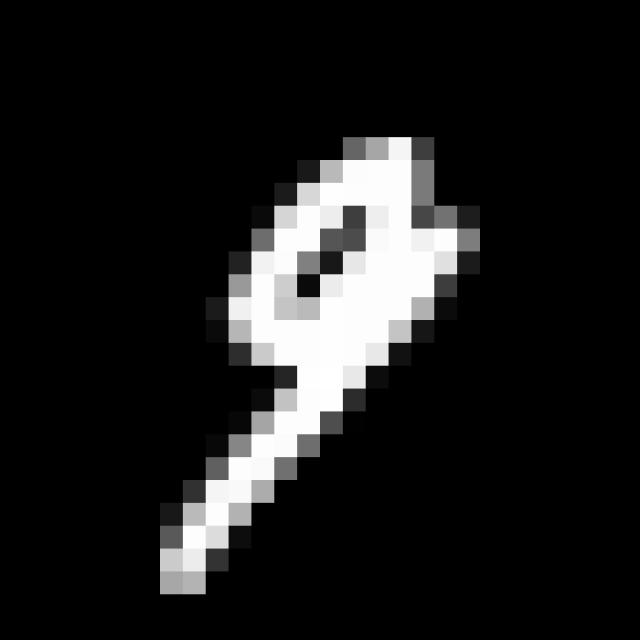nine -9-: (146, 130, 475, 590)
